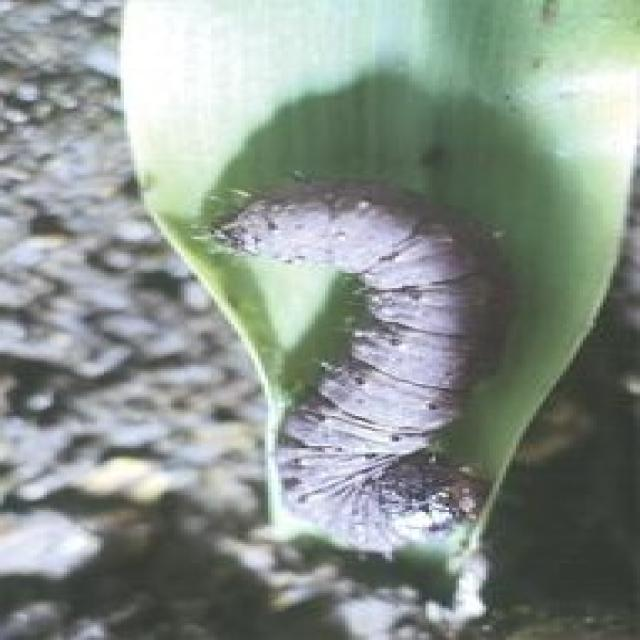black cutworm: (210, 174, 502, 553)
